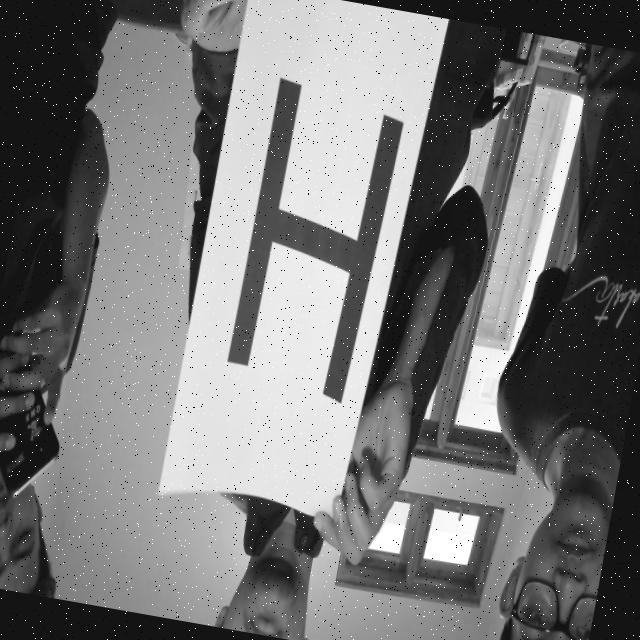h: (204, 44, 428, 426)
